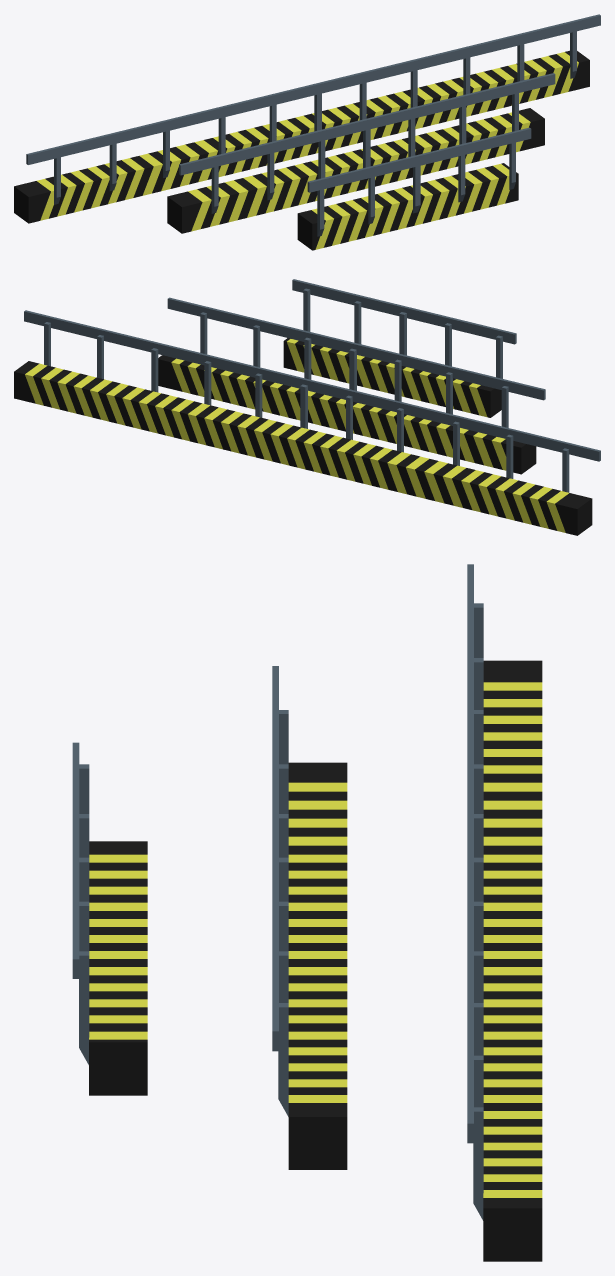
Rendered from elevators.fbx.
The picture shows the model from 3 angles, top to bottom: view 1: azimuth 30°, elevation 25°; view 2: azimuth 150°, elevation 25°; view 3: azimuth 270°, elevation 25°; orthographic projection. The views are drawn at different scales.
Parts seen in each view (by area): view 1: ElevatorLargeTLU, ElevatorMediumTLU, ElevatorSmallTLU; view 2: ElevatorLargeTLU, ElevatorMediumTLU, ElevatorSmallTLU; view 3: ElevatorLargeTLU, ElevatorMediumTLU, ElevatorSmallTLU.
Boxes of the visible parts, bbox=[...] form: ElevatorLargeTLU: bbox=[14, 14, 600, 223]; ElevatorMediumTLU: bbox=[167, 73, 555, 233]; ElevatorSmallTLU: bbox=[297, 127, 531, 250]; ElevatorLargeTLU: bbox=[14, 310, 600, 535]; ElevatorMediumTLU: bbox=[158, 297, 545, 474]; ElevatorSmallTLU: bbox=[283, 279, 516, 417]; ElevatorLargeTLU: bbox=[467, 564, 542, 1261]; ElevatorMediumTLU: bbox=[272, 666, 347, 1169]; ElevatorSmallTLU: bbox=[72, 742, 147, 1095].
Bounding box in the file's own units: 22.52 × 2.72 × 7.99.
